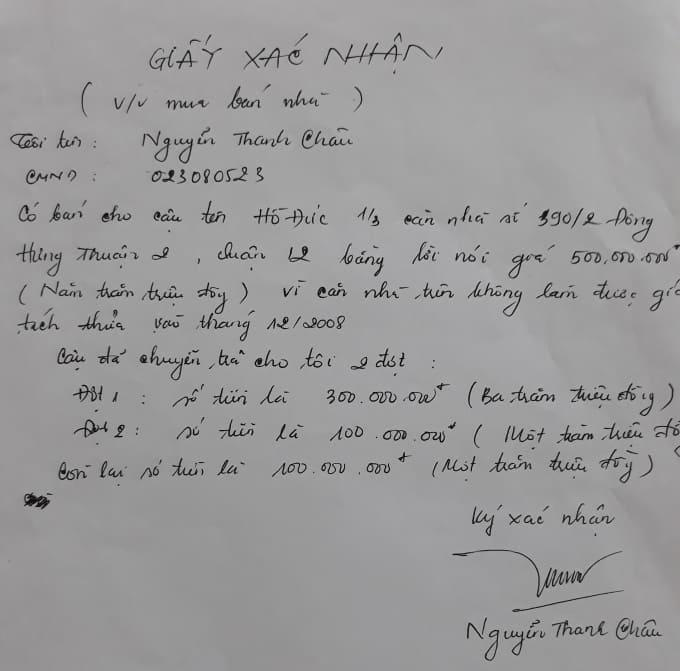text: (15, 193, 657, 247), (12, 273, 680, 321), (52, 442, 655, 490), (11, 239, 680, 282), (71, 414, 680, 454), (68, 377, 676, 417), (52, 339, 410, 385), (147, 26, 447, 77), (77, 77, 367, 125), (10, 306, 348, 347), (449, 542, 628, 619), (462, 613, 666, 666), (135, 119, 356, 166), (467, 496, 618, 543), (149, 161, 268, 189), (5, 126, 100, 156), (23, 163, 81, 190)
